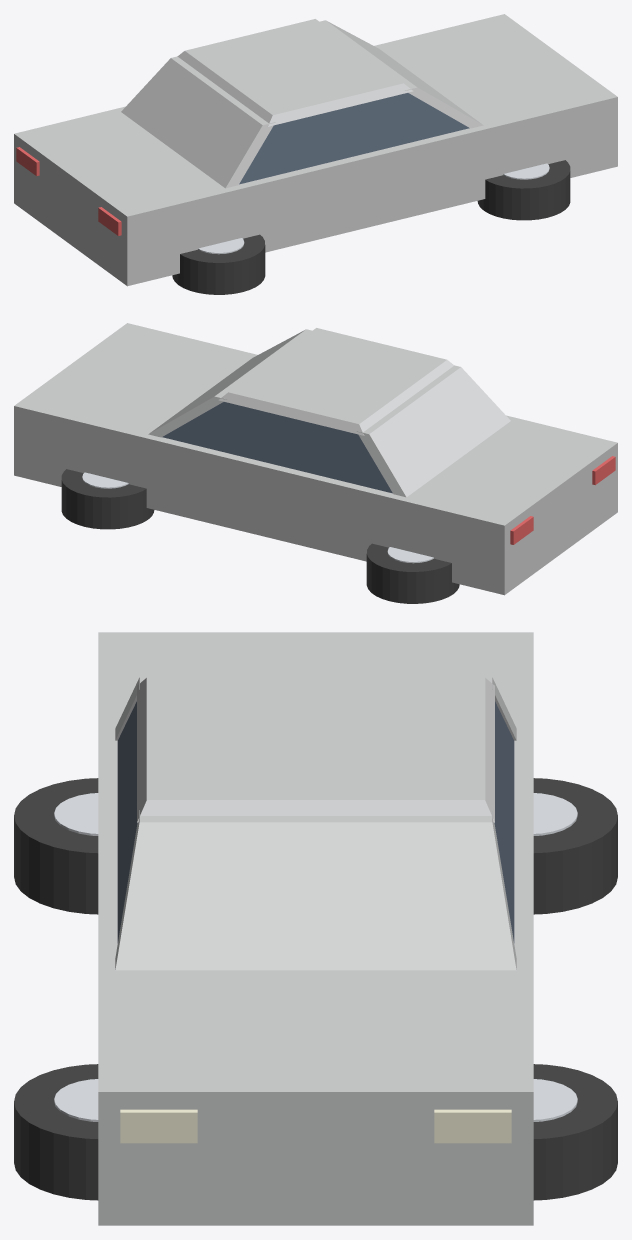
File: honda_accord.glb
The picture shows the model from 3 angles, top to bottom: view 1: azimuth 30°, elevation 25°; view 2: azimuth 150°, elevation 25°; view 3: azimuth 270°, elevation 25°; orthographic projection. The views are drawn at different scales.
Parts seen in each view (by area): view 1: geometry_0, geometry_2, geometry_4, geometry_1, geometry_5, geometry_9, geometry_3, geometry_6, geometry_10, geometry_16, geometry_14; view 2: geometry_0, geometry_2, geometry_4, geometry_1, geometry_7, geometry_11, geometry_3, geometry_8, geometry_12, geometry_14, geometry_16; view 3: geometry_0, geometry_3, geometry_2, geometry_9, geometry_11, geometry_5, geometry_7, geometry_1, geometry_13, geometry_15, geometry_6, geometry_8 (+3 smaller).
Boxes of the visible parts, x1,y1,x2,y2 form: geometry_0: [14, 14, 617, 286]; geometry_2: [177, 19, 413, 126]; geometry_4: [121, 56, 275, 188]; geometry_1: [239, 93, 469, 184]; geometry_5: [477, 160, 570, 220]; geometry_9: [172, 234, 265, 294]; geometry_3: [320, 20, 483, 128]; geometry_6: [503, 163, 549, 179]; geometry_10: [198, 238, 244, 254]; geometry_16: [16, 147, 39, 176]; geometry_14: [98, 207, 121, 235]; geometry_0: [14, 323, 617, 595]; geometry_2: [218, 328, 454, 435]; geometry_4: [356, 365, 510, 497]; geometry_1: [162, 402, 392, 493]; geometry_7: [61, 469, 154, 529]; geometry_11: [366, 543, 459, 603]; geometry_3: [148, 329, 311, 437]; geometry_8: [82, 472, 128, 488]; geometry_12: [387, 547, 433, 563]; geometry_14: [592, 456, 615, 485]; geometry_16: [510, 516, 533, 544]; geometry_0: [98, 632, 533, 1225]; geometry_3: [115, 810, 516, 970]; geometry_2: [137, 677, 494, 822]; geometry_9: [14, 778, 98, 914]; geometry_11: [533, 778, 617, 914]; geometry_5: [14, 1064, 98, 1200]; geometry_7: [533, 1064, 617, 1200]; geometry_1: [117, 701, 514, 942]; geometry_13: [120, 1109, 197, 1143]; geometry_15: [434, 1109, 511, 1143]; geometry_6: [54, 1079, 98, 1121]; geometry_8: [533, 1079, 577, 1121].
Size of the model in its own units: 4.56 by 1.2 by 2.5.
